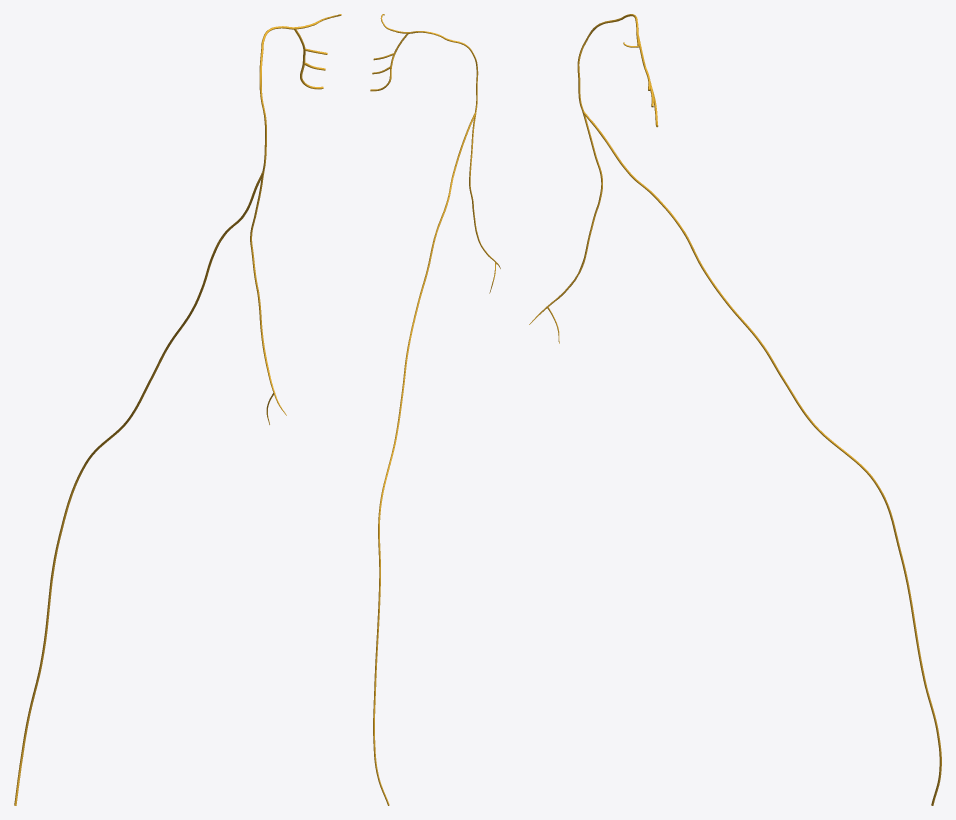
Rendered from nervoso-accessory-nerve-xi-r.glb.
The picture shows the model from 3 angles, left to right: view 1: azimuth 30°, elevation 25°; view 2: azimuth 150°, elevation 25°; view 3: azimuth 270°, elevation 25°; orthographic projection. The views are drawn at different scales.
Parts seen in each view (by area): view 1: Accessory nerve (XI).r; view 2: Accessory nerve (XI).r; view 3: Accessory nerve (XI).r.
Boxes of the visible parts, box(x1,y1,x2,y2) form: Accessory nerve (XI).r: box(14, 14, 341, 805); Accessory nerve (XI).r: box(370, 14, 500, 805); Accessory nerve (XI).r: box(529, 14, 941, 805).
Size of the model in its own units: 0.0569 by 0.2795 by 0.1244.
